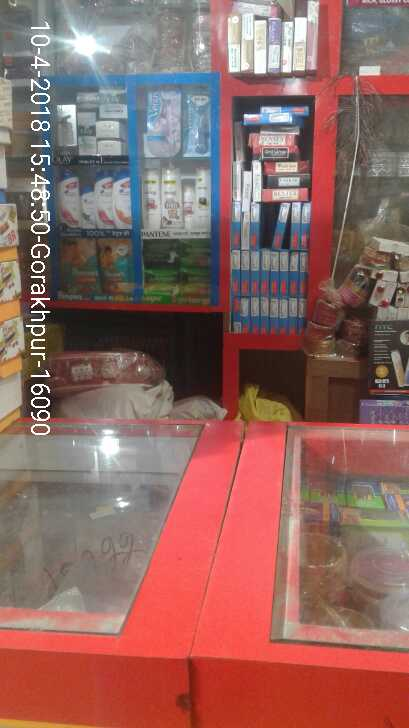venus: (146, 86, 182, 158), (182, 93, 210, 157)
